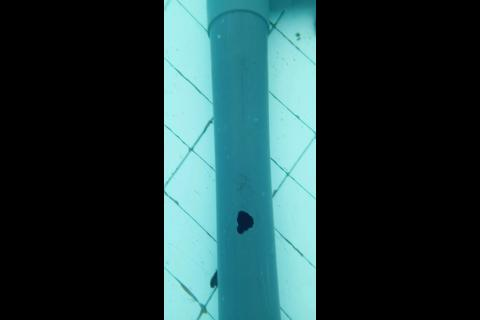kebocoran: (235, 209, 254, 236)
